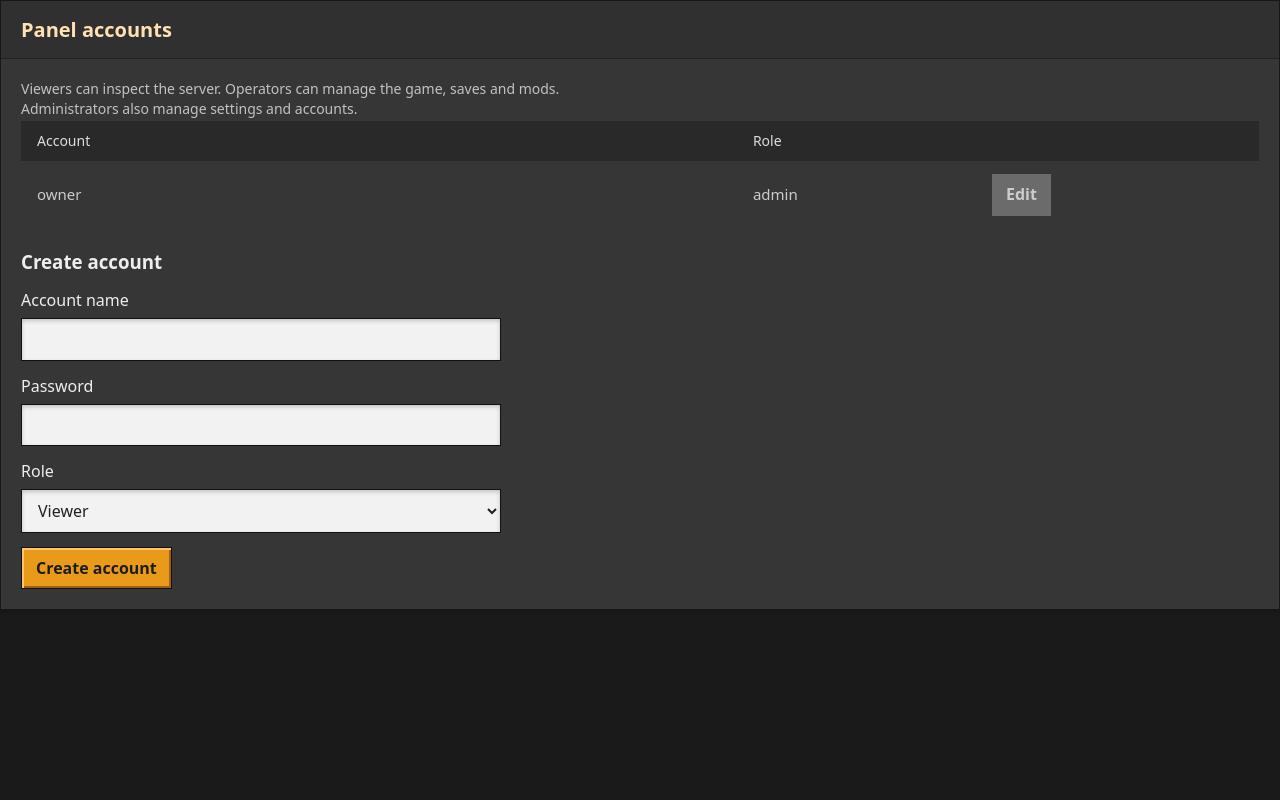
Scenario: does not offer self deletion while editing the current account
The image size is (1280, 800).
Click the button "Edit": click(1021, 195) [992,174,1051,216]
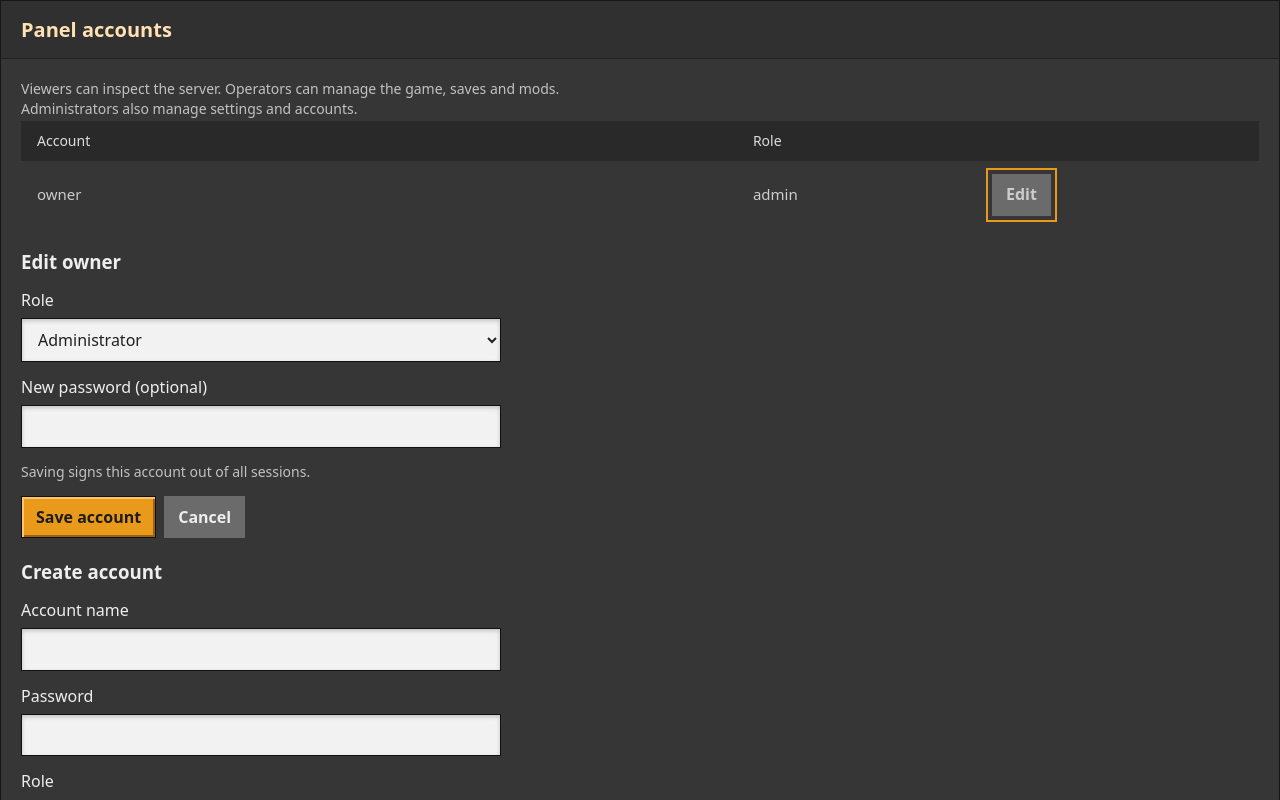
Result: the heading "Edit owner" is shown at [21,249,121,274]
